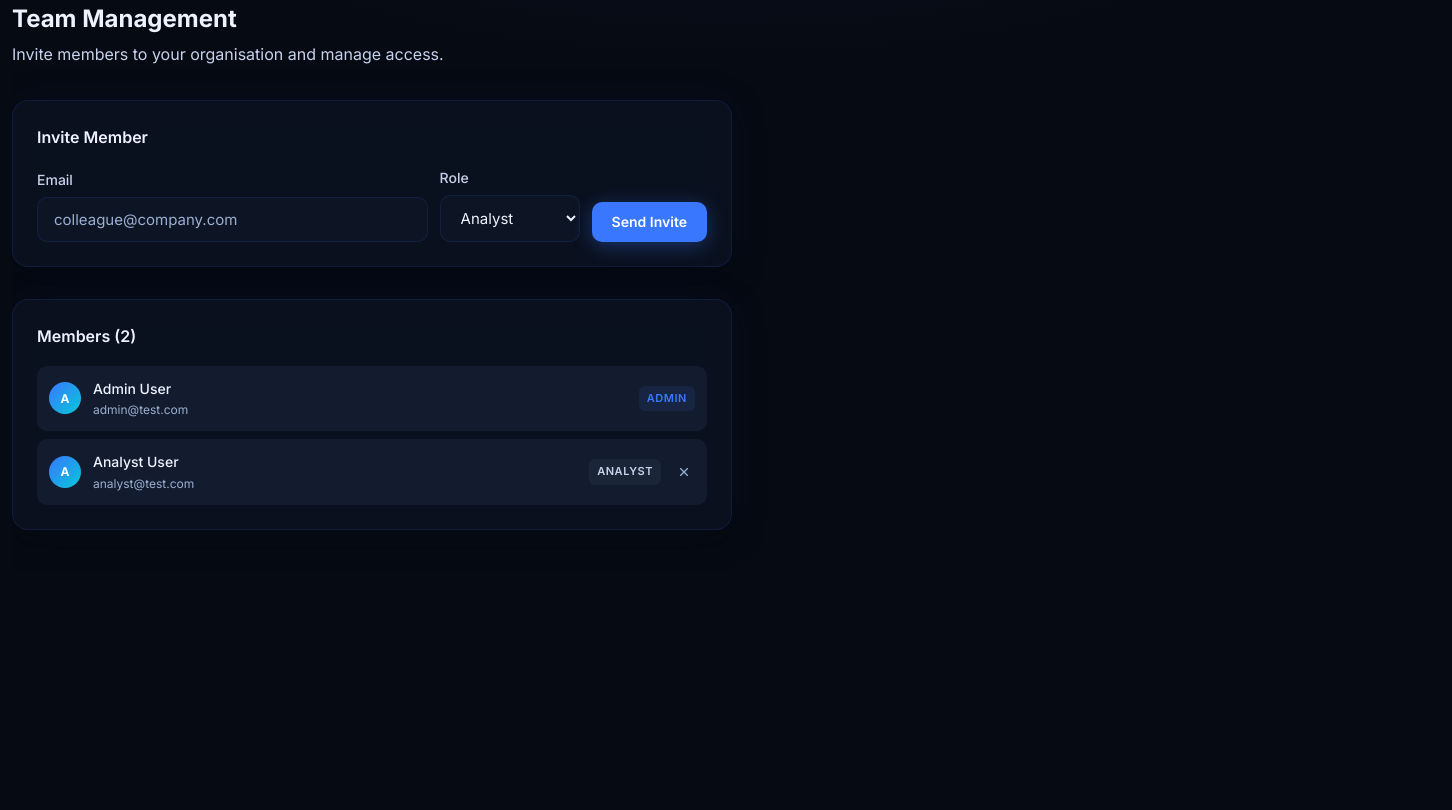
TeamView › remove member (toast.undo) › clicking Undo restores the member and skips DELETE
Click the button named "Remove analyst@test.com". click: (684, 472)
box: [673, 461, 695, 483]
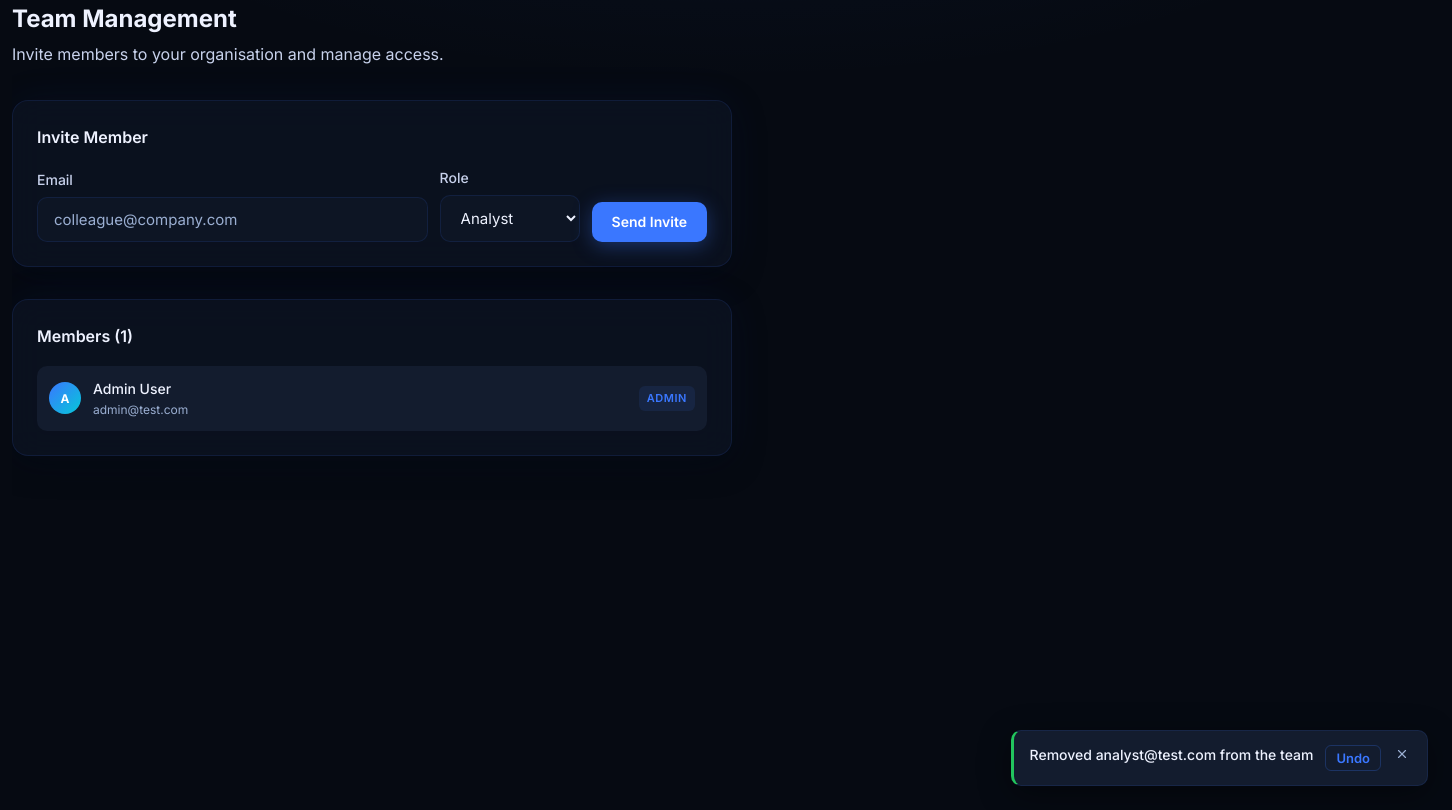
Now the text "Analyst User" is gone
Click the button "Undo". click: (1353, 758)
box: [1325, 745, 1381, 771]
Wait 10000 ms
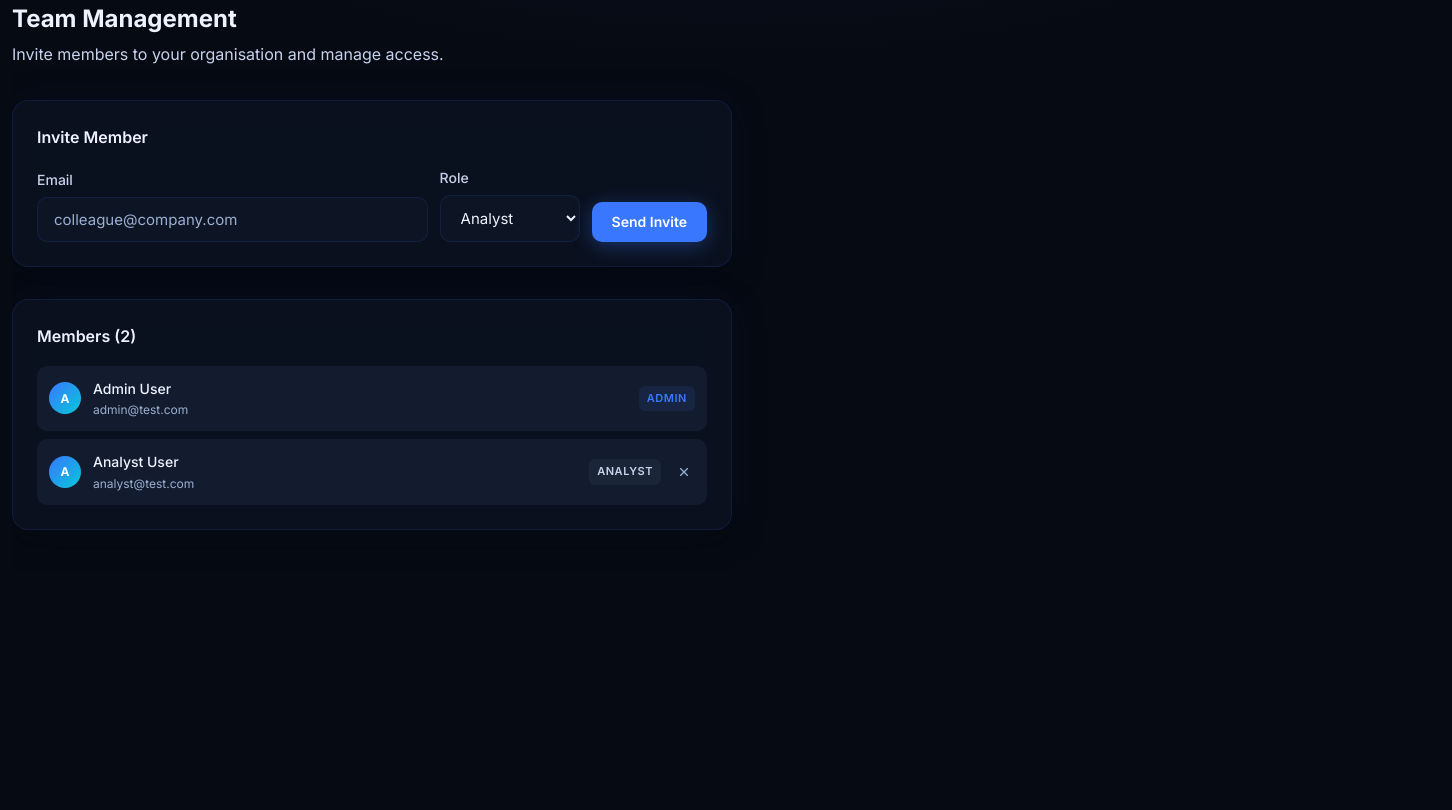
Now the text "Analyst User" is shown, box [93, 453, 179, 470]
